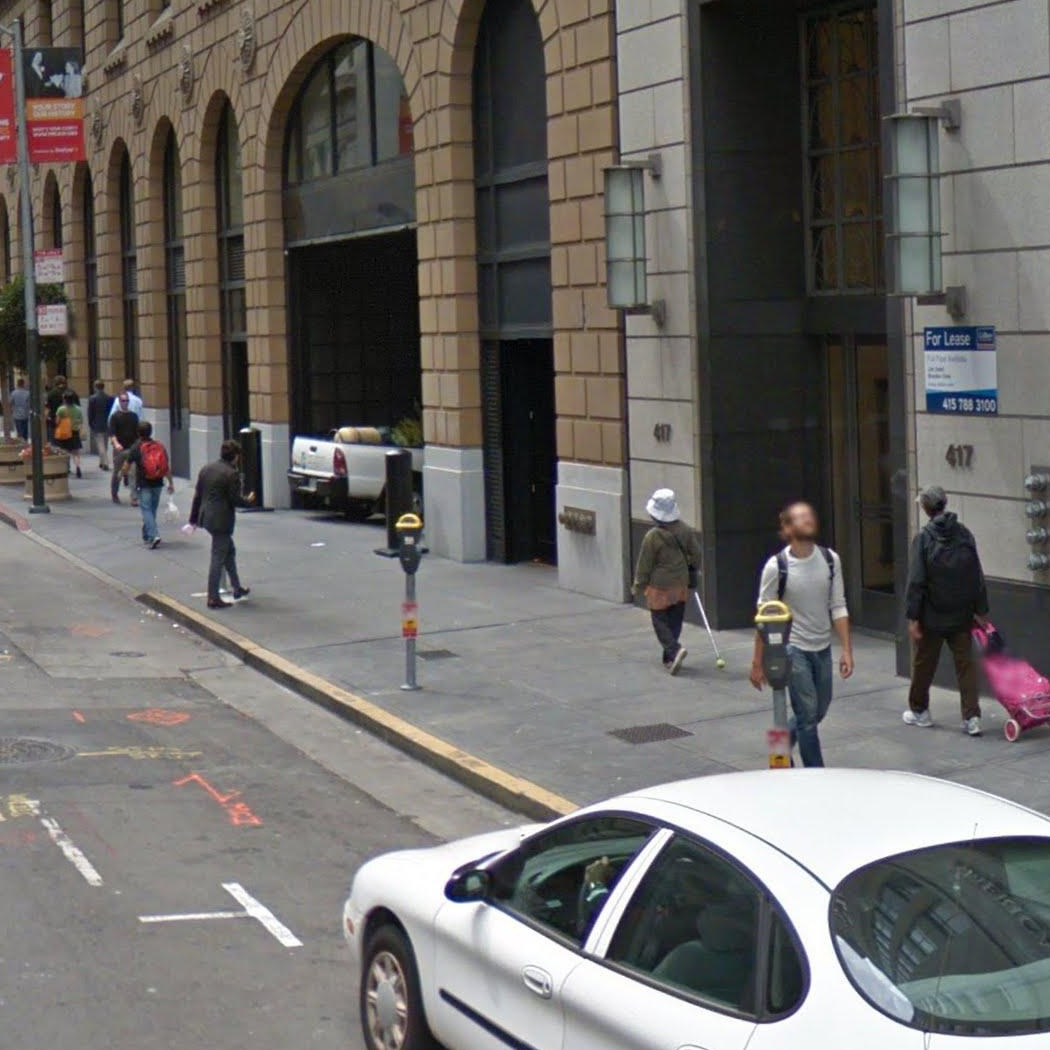No Parking: (33, 247, 66, 285), (36, 303, 68, 335)
